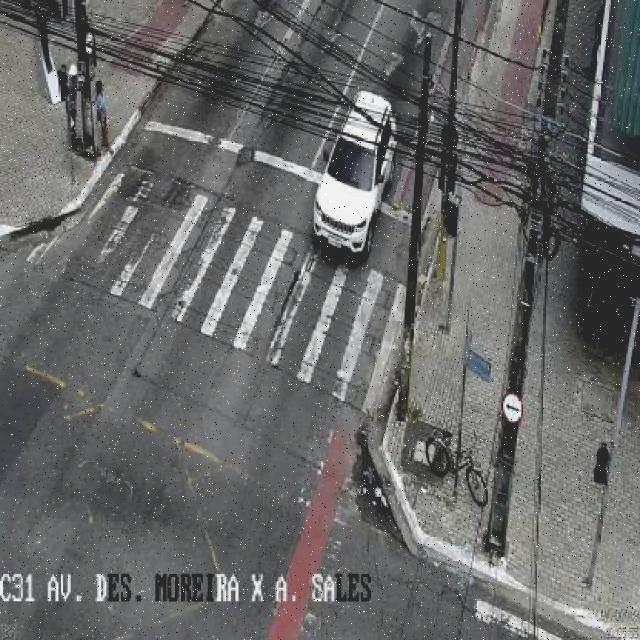Car: (311, 90, 397, 264)
Cycle: (424, 429, 490, 507)
